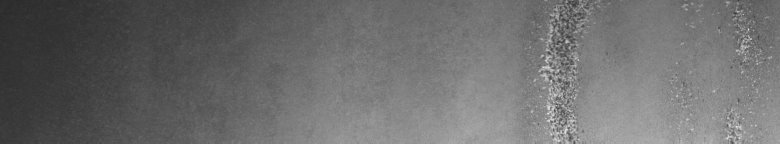hc: (527, 4, 603, 136)
